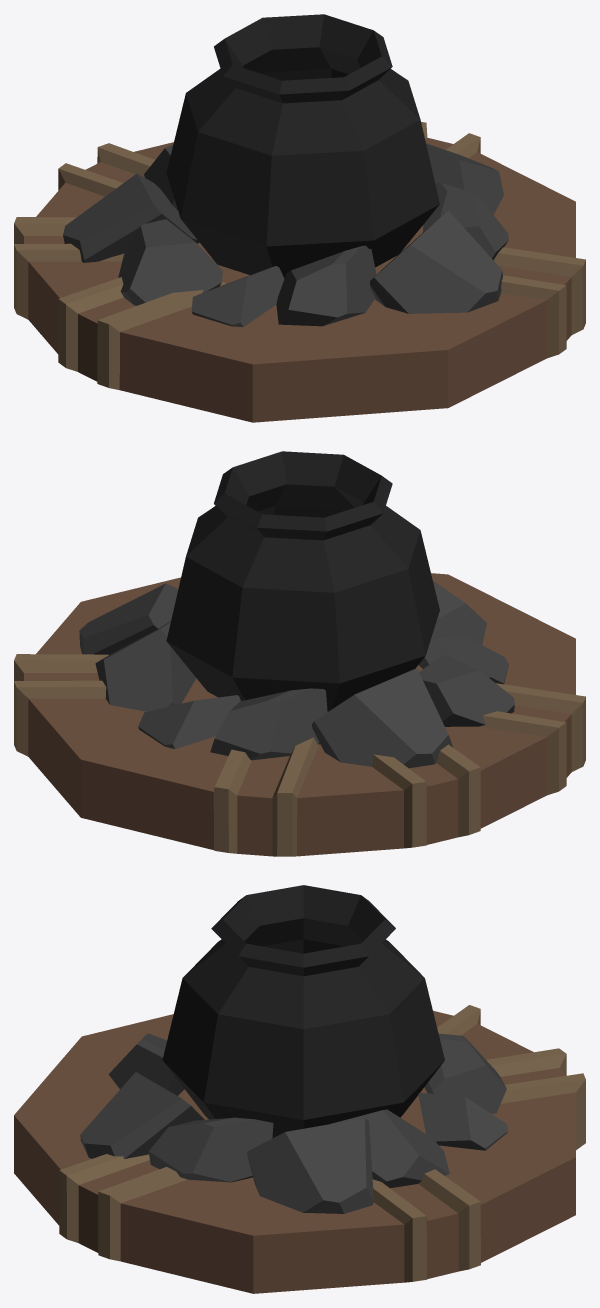
Rendered from Cauldron.fbx.
3 views of the same model, one above another, from view 1: azimuth 30°, elevation 25°; view 2: azimuth 150°, elevation 25°; view 3: azimuth 270°, elevation 25° (orthographic).
Visible parts, largest first — view 1: Cauldron; view 2: Cauldron; view 3: Cauldron.
Part boxes in pixels (box(x1,y1,x2,y2)): Cauldron: box(14, 14, 585, 422); Cauldron: box(14, 451, 585, 856); Cauldron: box(14, 885, 585, 1293).
Size of the model in its own units: 1.21 by 1.21 by 0.5931.
